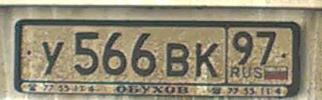license-plateSW: (20, 22, 296, 87)
